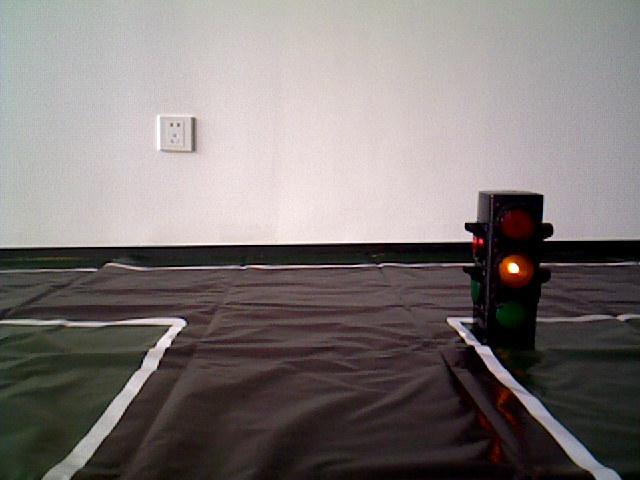yellow: (487, 195, 541, 331)
